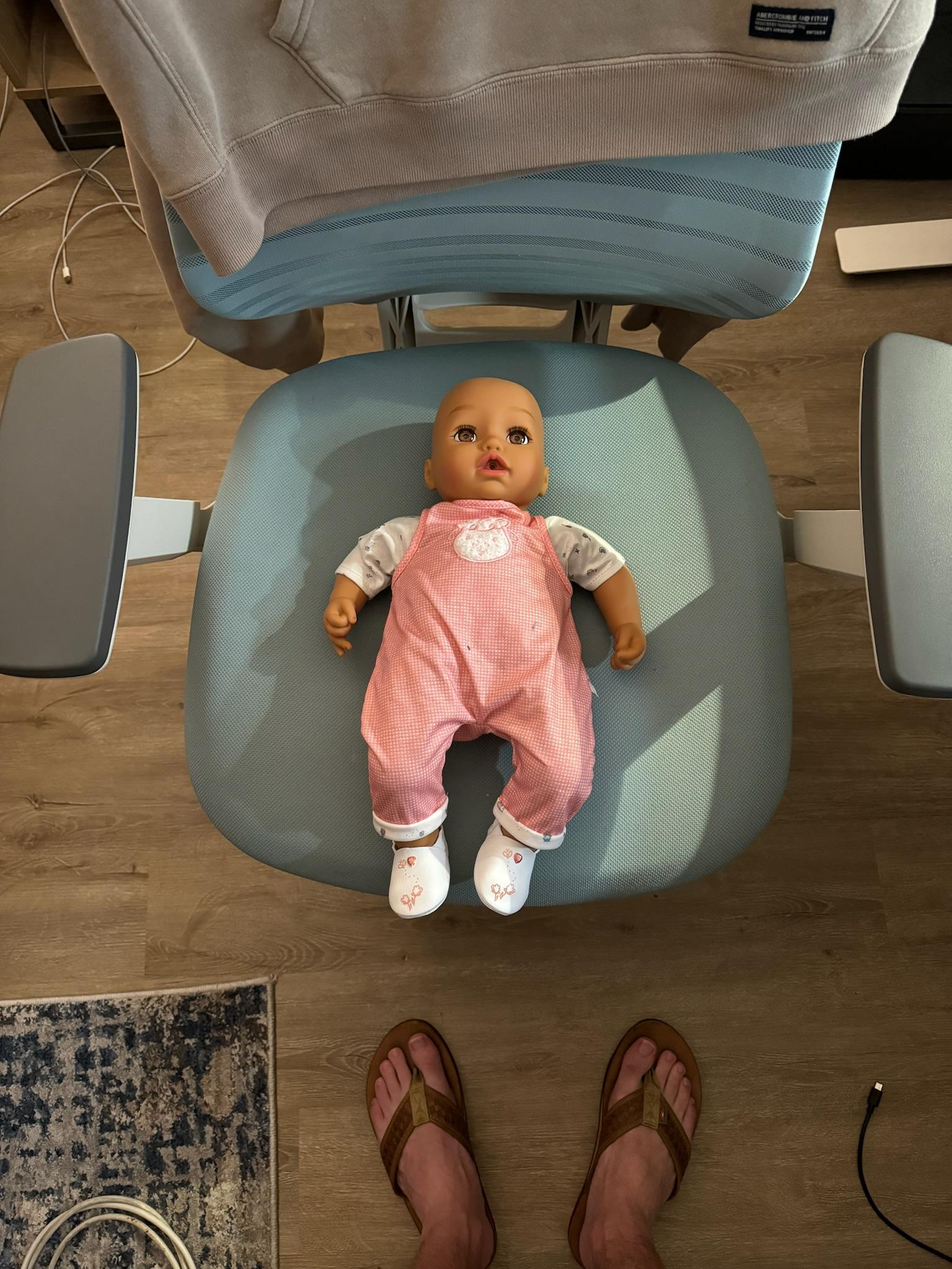baby: (304, 368, 653, 948)
